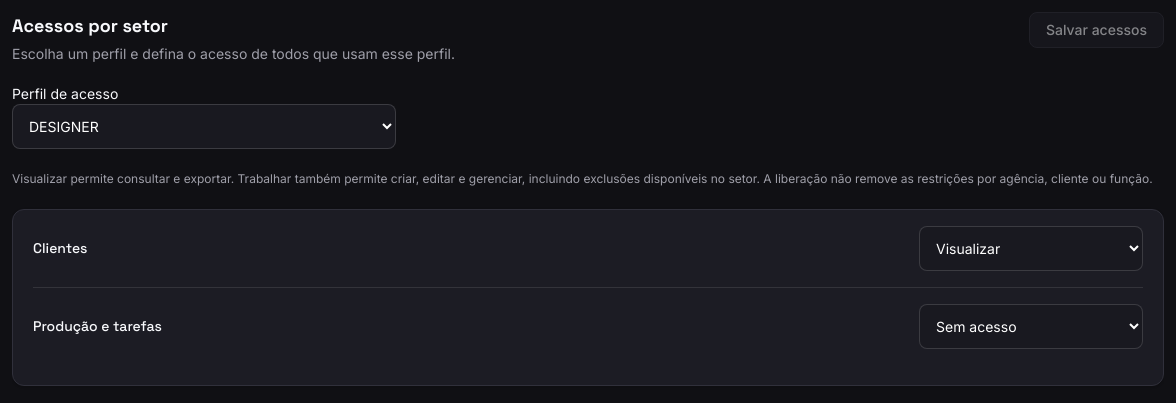
Acessos por setor › disables saving after reverting the draft
Select "Trabalhar" in the dropdown named "Acesso a Produção e tarefas". click: coordinates (1031, 326)
box: 919,304 -> 1143,348
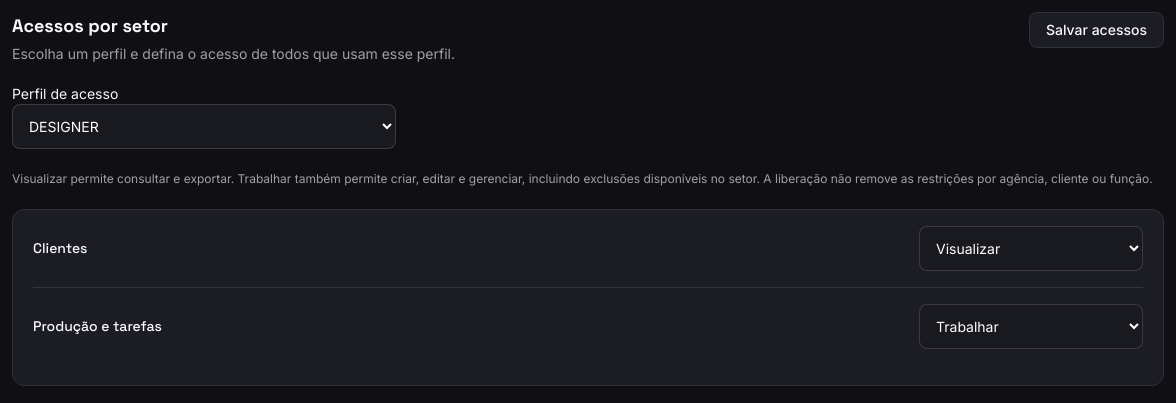
Select "Sem acesso" in the dropdown named "Acesso a Produção e tarefas". click: coordinates (1031, 326)
box: 919,304 -> 1143,348
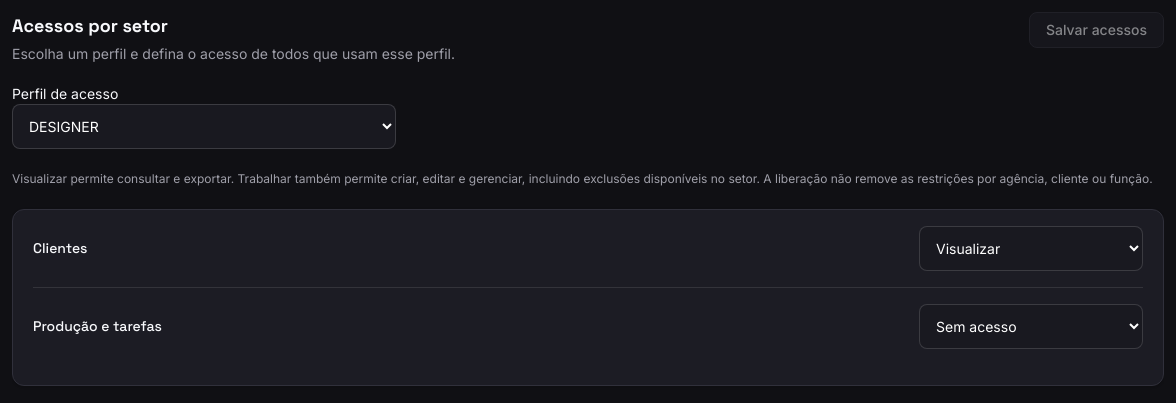
Expected: the button "Salvar acessos" is disabled, 1029,12 -> 1164,48
